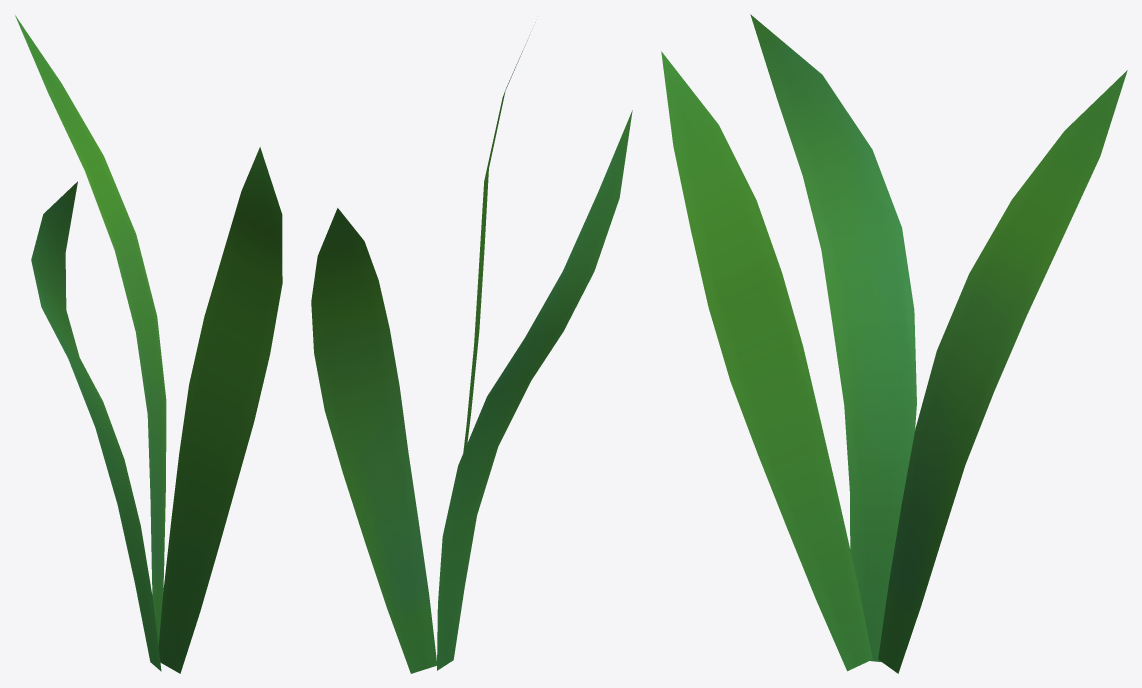
File: env_grass_export_02.fbx
3 renders of one model, left to right at view 1: azimuth 30°, elevation 25°; view 2: azimuth 150°, elevation 25°; view 3: azimuth 270°, elevation 25°, orthographic. The views are drawn at different scales.
Parts seen in each view (by area): view 1: pPlane5, pPlane4, pPlane3; view 2: pPlane4, pPlane3, pPlane5; view 3: pPlane3, pPlane5, pPlane4.
Part boxes in pixels (bbox=[...]): pPlane5: bbox=[158, 147, 282, 673]; pPlane4: bbox=[15, 15, 166, 645]; pPlane3: bbox=[31, 181, 161, 671]; pPlane4: bbox=[311, 208, 436, 673]; pPlane3: bbox=[437, 110, 632, 670]; pPlane5: bbox=[463, 22, 535, 452]; pPlane3: bbox=[750, 14, 916, 662]; pPlane5: bbox=[661, 51, 872, 671]; pPlane4: bbox=[878, 70, 1127, 673].
Bounding box in the file's own units: 4.48 × 12.95 × 8.9.
Materials: 3 (3 with a texture image).
